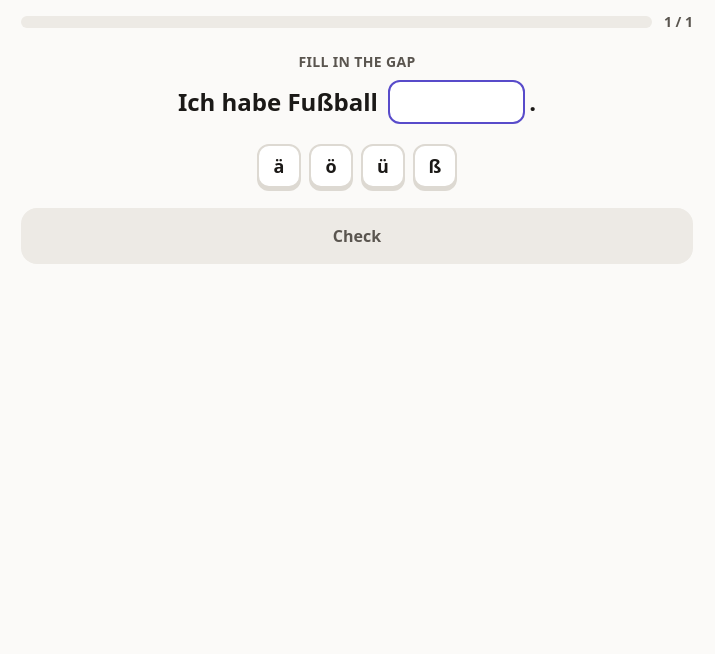
it: Gapfill grammar hints › shows the mini lesson after a wrong typed answer, with a why for expected mistakes
This screenshot has width=715, height=654.
Type "Gespielen" into the field named "Missing word" at (457, 102), box x1=388 y1=80 x2=525 y2=124
Then press Enter
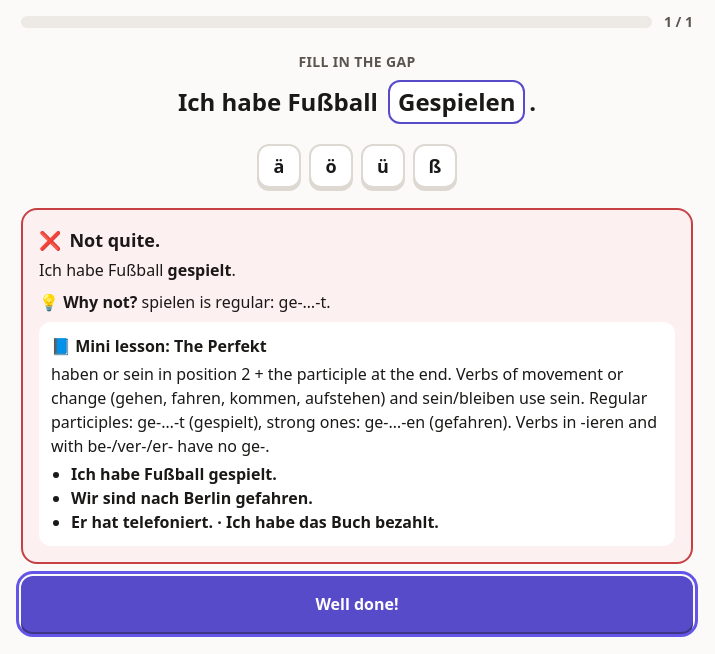
Result: the element with test id "mistake-why" shows "spielen is regular" at x1=142 y1=291 x2=330 y2=313
